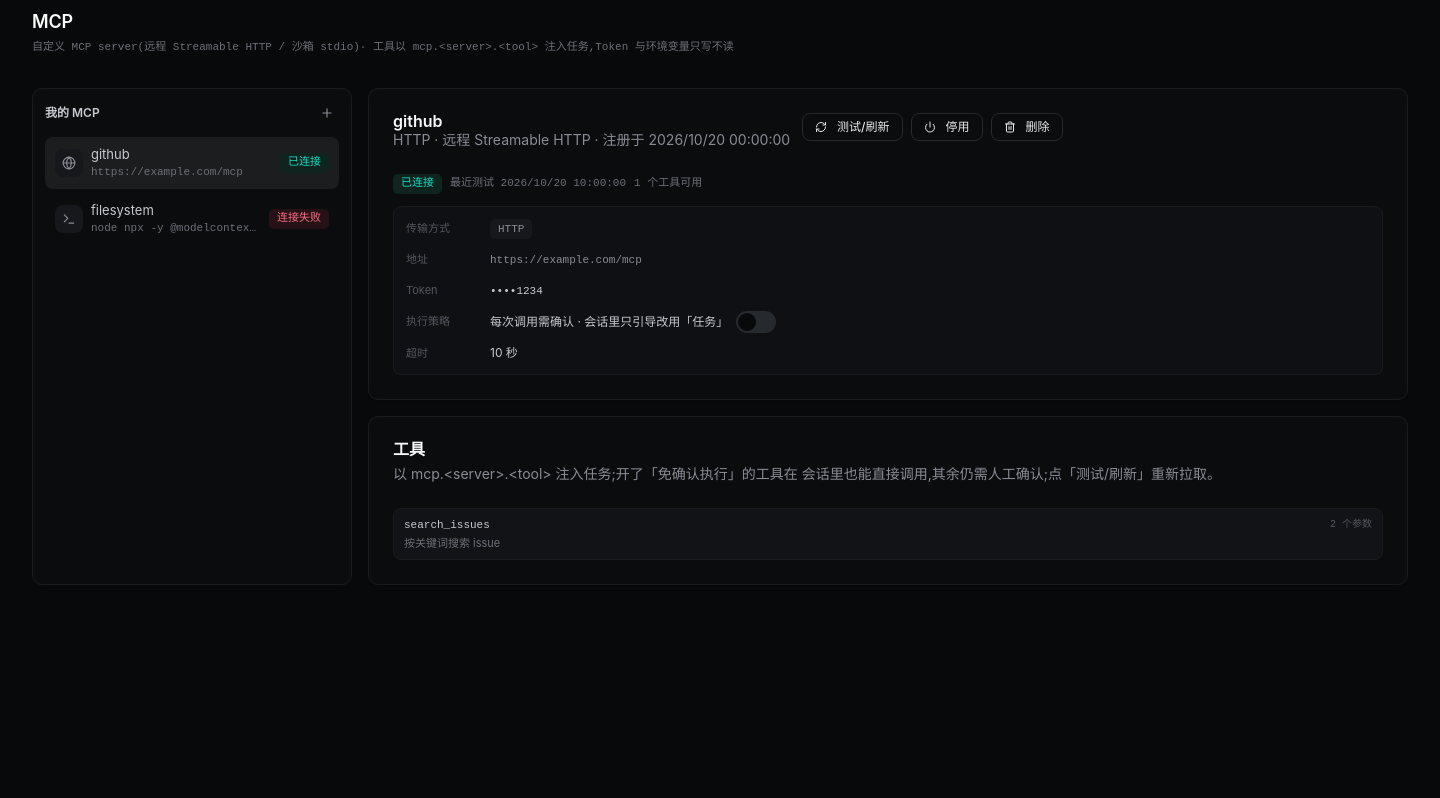
Test: McpPage › stdio 未填命令或命令含空格时不提交
Click the button named "添加 MCP server".
click(327, 112)  # box [315,100,339,124]
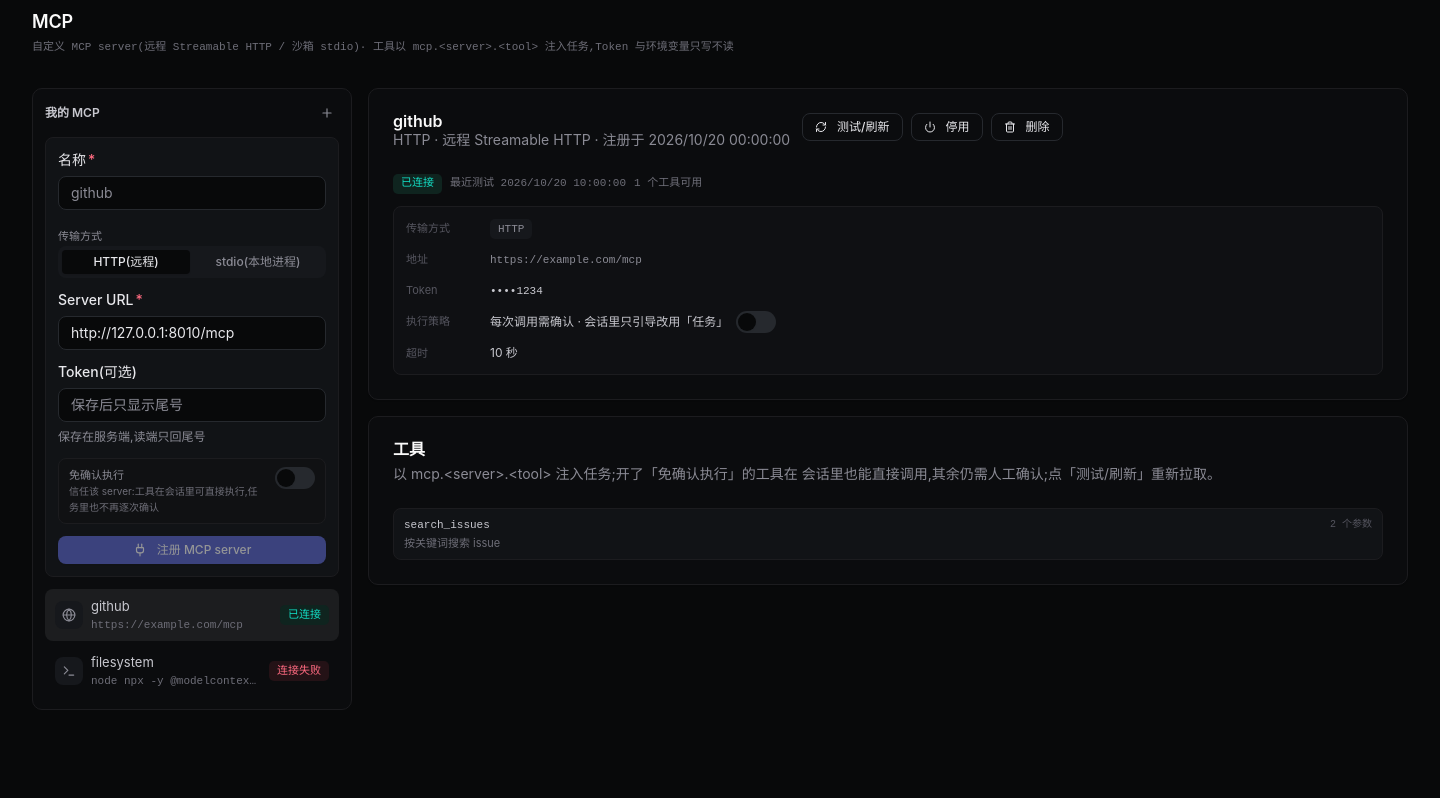
Expected: the field labelled "名称 *" is shown, [71,182,313,202]
Click the tab "stdio(本地进程)".
click(258, 262)  # box [194,250,322,274]
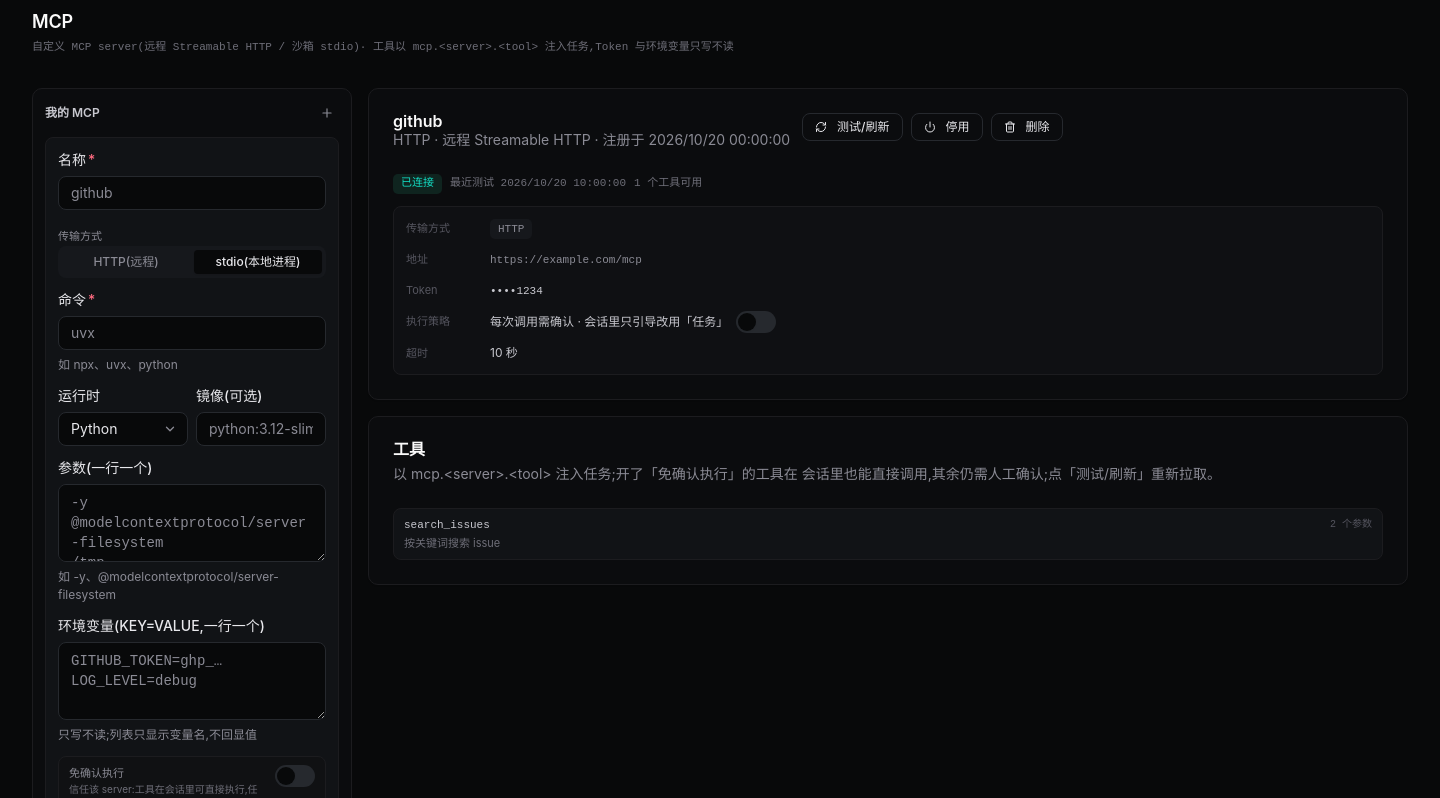
Type "filesystem" into the field labelled "名称 *".
click(192, 192); type("filesystem")  # box [71,182,313,202]
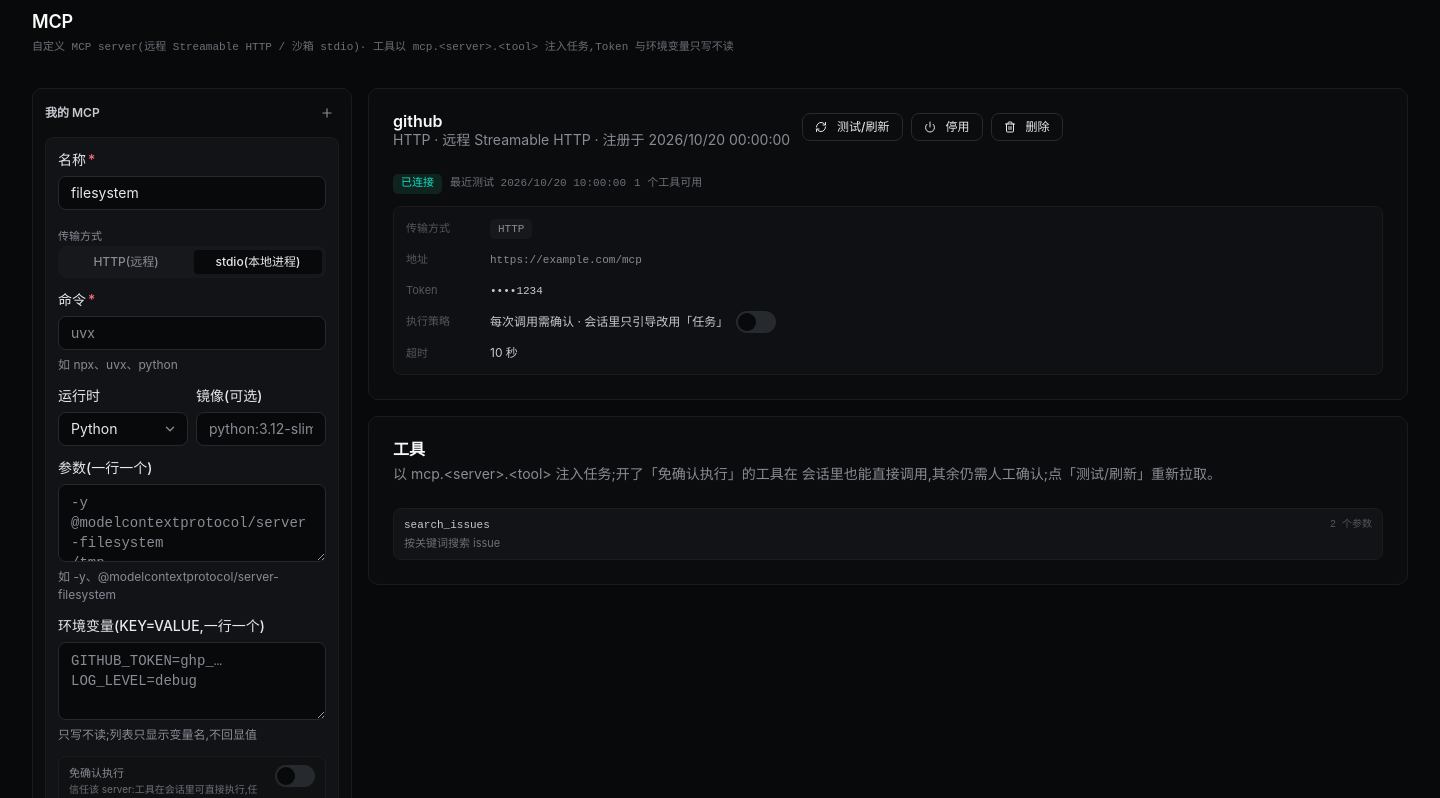
Expected: the label labelled "Server URL" is not shown
Type "npx -y" into the field labelled "命令 *".
click(192, 332); type("npx -y")  # box [71,322,313,342]
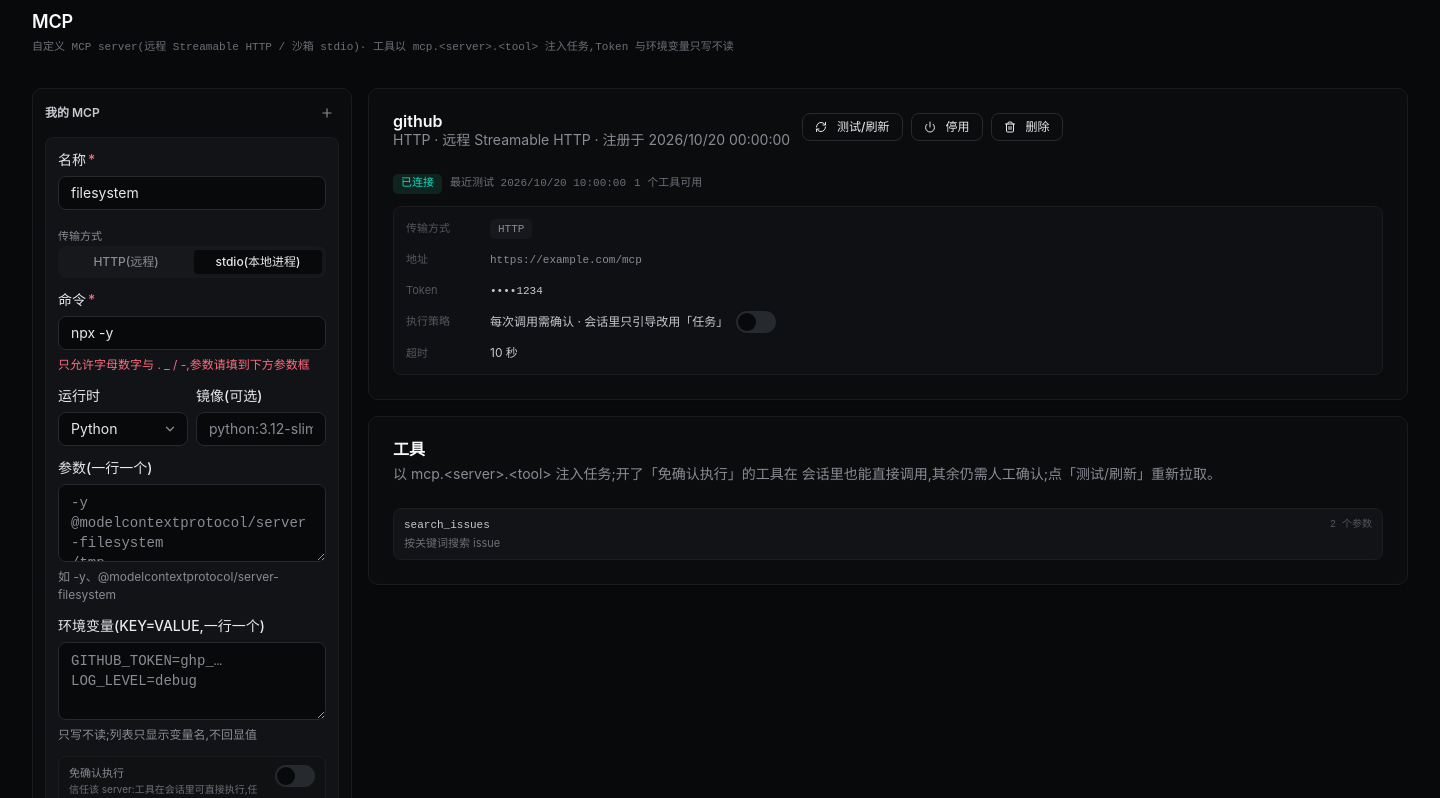
Expected: the text "只允许字母数字与 . _ / -,参数请填到下方参数框" is shown, [58,356,326,374]
Replace the text in the field labelled "命令 *" with "npx" at (192, 332), box [71,322,313,342]
(page scrolled)
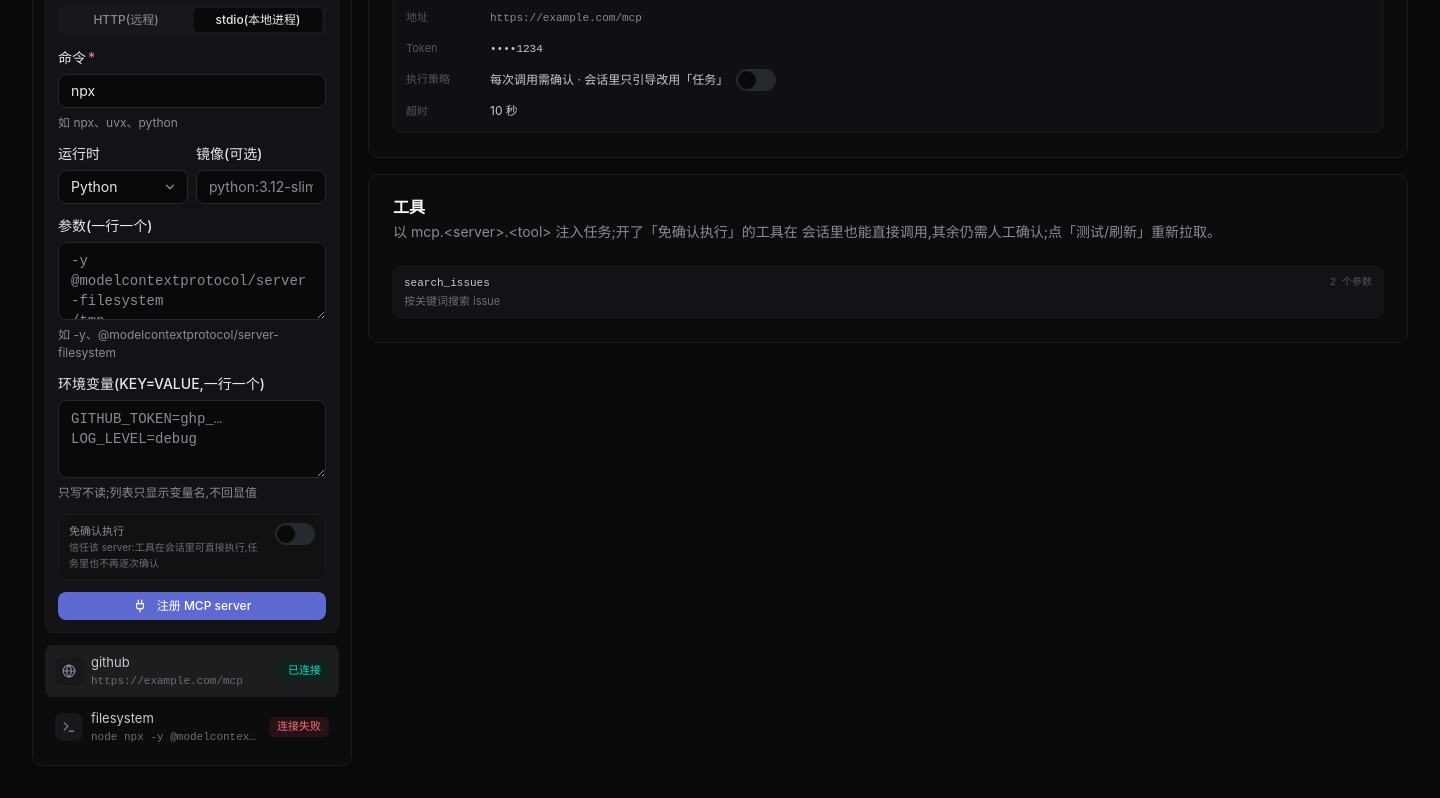
Expected: the button "注册 MCP server" is enabled, [58,592,326,620]
